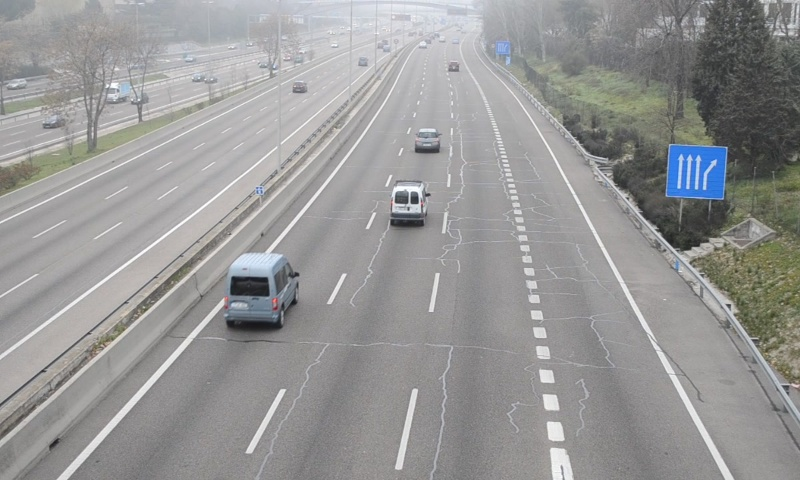car: (414, 127, 441, 153)
van: (222, 253, 298, 324), (390, 182, 426, 222)
